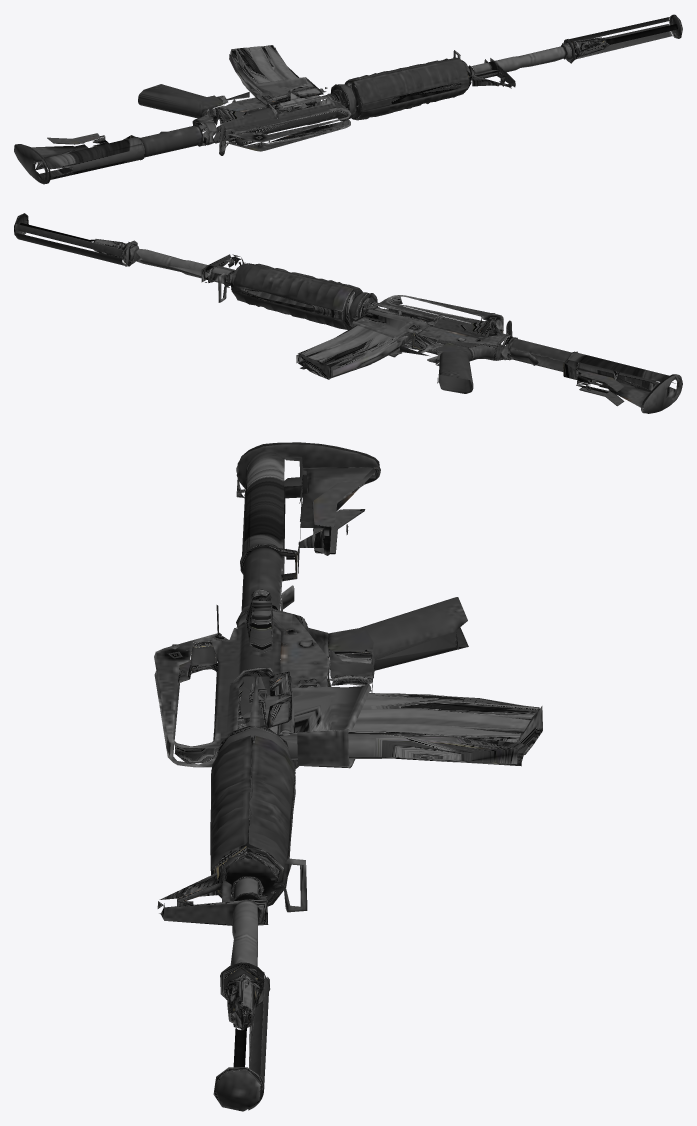
3 views of the same model, one above another, from view 1: azimuth 30°, elevation 25°; view 2: azimuth 150°, elevation 25°; view 3: azimuth 270°, elevation 25° (orthographic). The views are drawn at different scales.
Visible parts, largest first — view 1: p_m4a1; view 2: p_m4a1; view 3: p_m4a1.
Part boxes in pixels (box(x1,y1,x2,y2)): p_m4a1: box(14, 14, 682, 184); p_m4a1: box(14, 213, 682, 413); p_m4a1: box(154, 442, 542, 1111).
Size of the model in its own units: 1.45 by 0.0977 by 0.3875.
1 material, 1 textured.
